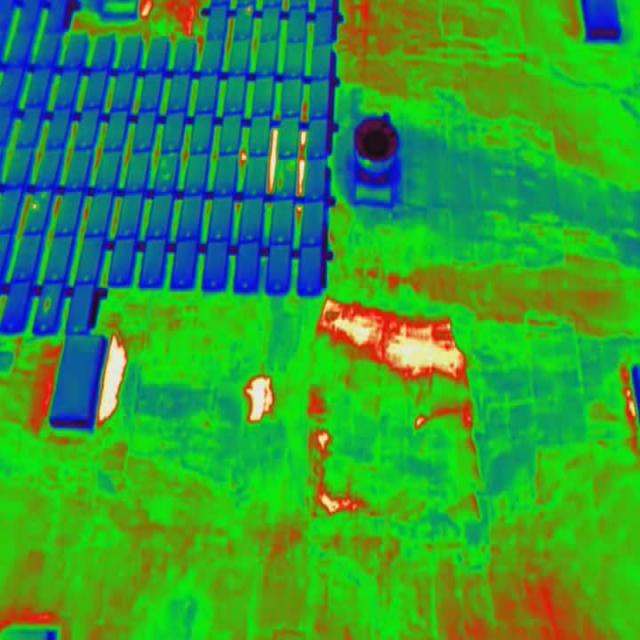Orange-Spots: (44, 297, 50, 315), (278, 172, 282, 190), (32, 202, 39, 212), (163, 172, 170, 181), (246, 7, 252, 14), (162, 160, 166, 168), (40, 193, 46, 198), (289, 163, 293, 168)
